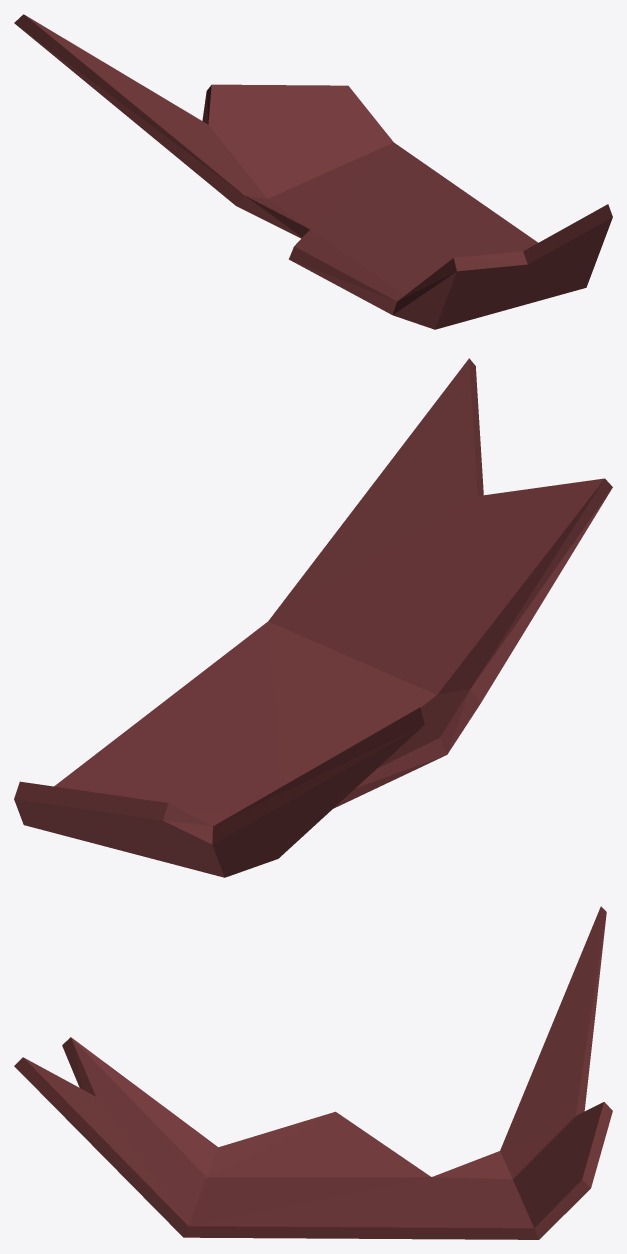
Rendered from Bowl_Scrap_2 Asia.fbx.
3 views of the same model, one above another, from view 1: azimuth 30°, elevation 25°; view 2: azimuth 150°, elevation 25°; view 3: azimuth 270°, elevation 25° (orthographic). The views are drawn at different scales.
Parts seen in each view (by area): view 1: Bowl_Scrap_2; view 2: Bowl_Scrap_2; view 3: Bowl_Scrap_2.
Boxes of the visible parts, left/top/right/bottom form: Bowl_Scrap_2: left=14, top=14, right=612, bottom=329; Bowl_Scrap_2: left=14, top=358, right=612, bottom=877; Bowl_Scrap_2: left=14, top=906, right=612, bottom=1239.
Bounding box in the file's own units: 0.0995 × 0.058 × 0.1611.
